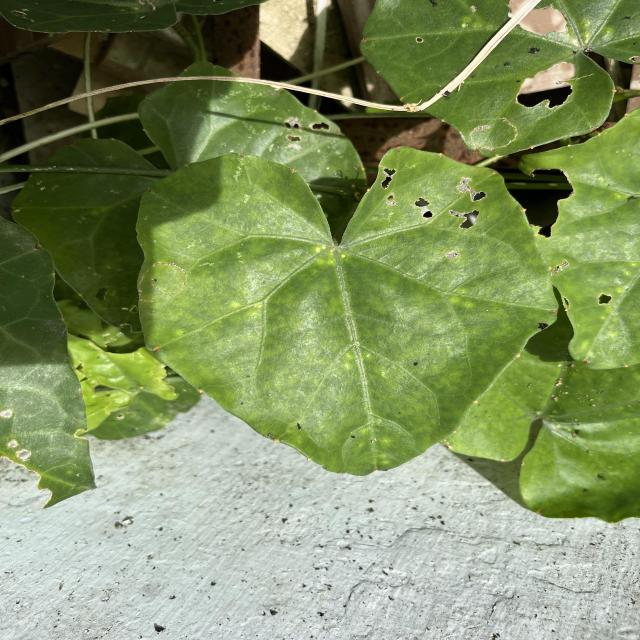Coccinia grandis: (131, 142, 562, 479)
